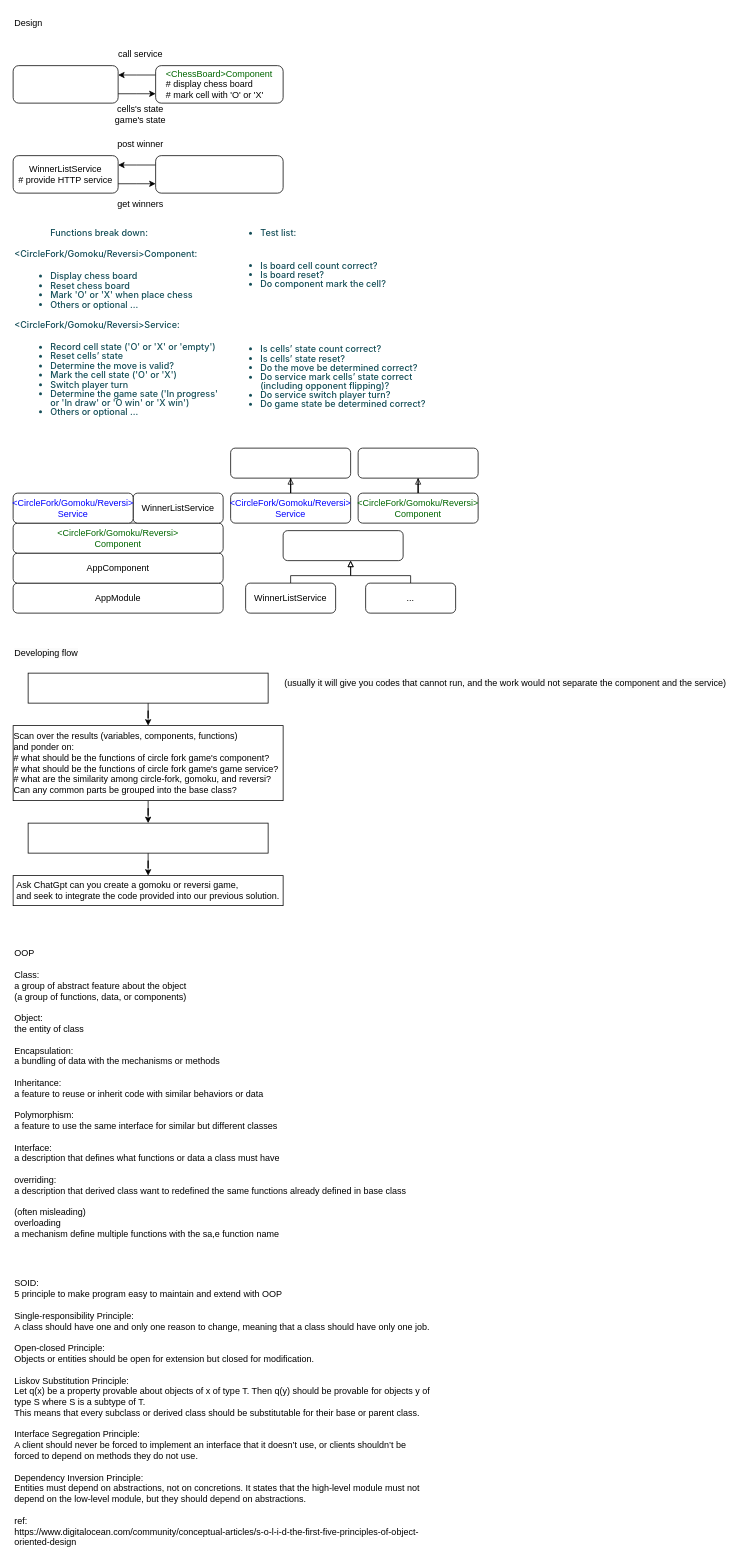
The diagram is 746 pixels wide and 1561 high, and some of its shapes have lost their labels. Here are the shapes that lost their labels. From the top down, the box of each, then its label:
(12, 65, 118, 103): <ChessBoard>Service # provide game service # mark cell's state
(155, 155, 283, 193): <ChessBoard>Component # display winner list
(230, 447, 351, 478): GameService
(357, 447, 478, 478): ChessBoardComponent
(282, 530, 403, 561): RESTService
(27, 672, 268, 703): Ask ChatGpt can you create a circle fork game in angular
(27, 822, 268, 853): Revised the code structure according to the contemplation
